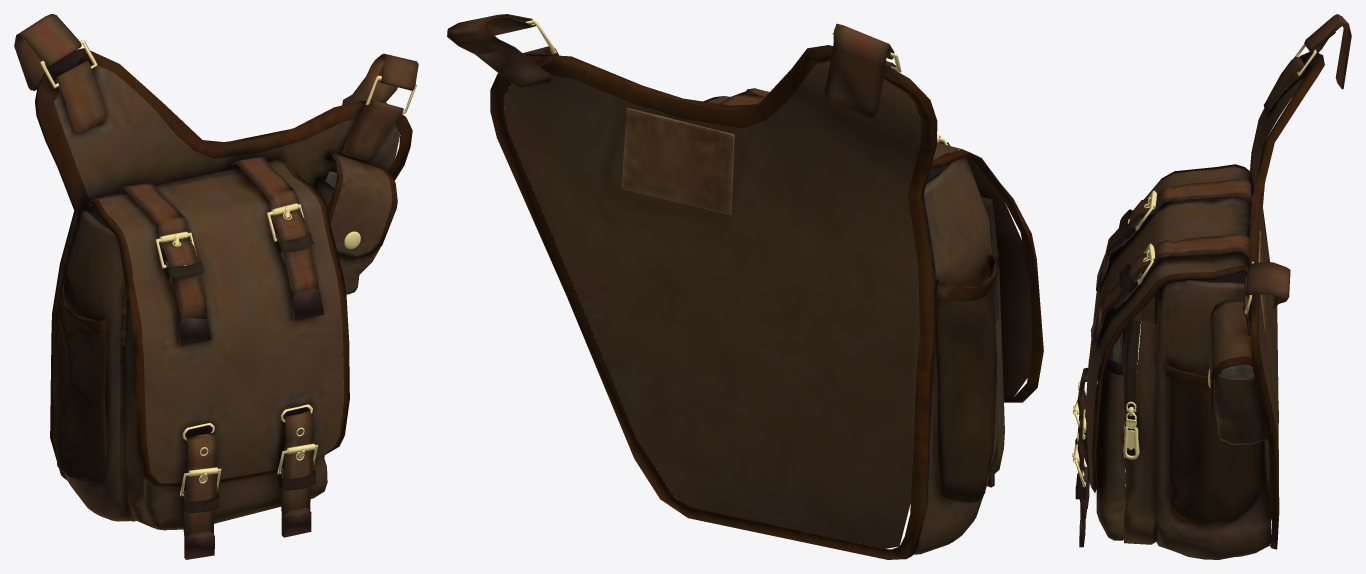
Rendered from bag.glb.
The picture shows the model from 3 angles, left to right: view 1: azimuth 30°, elevation 25°; view 2: azimuth 150°, elevation 25°; view 3: azimuth 270°, elevation 25°; orthographic projection. The views are drawn at different scales.
Visible parts, largest first — view 1: g (×20); view 2: g (×9); view 3: g (×16).
Part boxes in pixels (x1,y1,x2,y2): g (×20): (14, 14, 418, 559); g (×9): (447, 14, 1043, 559); g (×16): (1077, 14, 1351, 559).
Bounding box in the file's own units: 1.81 × 2 × 1.1.
11 materials, 11 textured.
